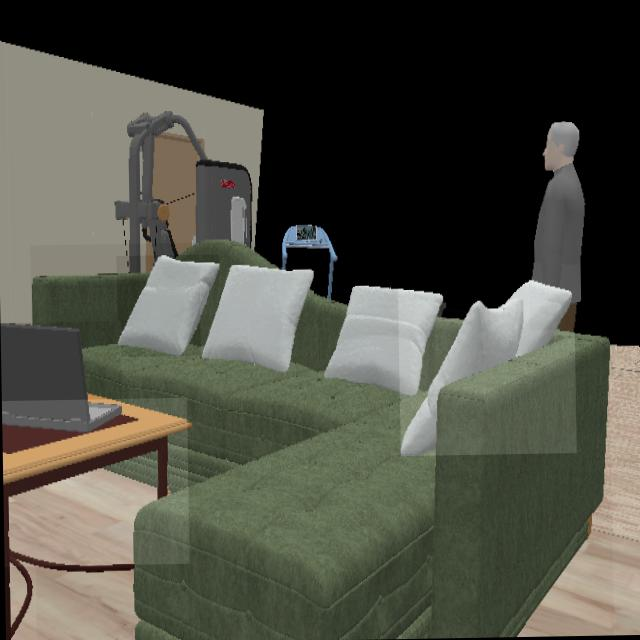laptop: (0, 323, 122, 439)
person: (528, 122, 585, 330)
pillow: (400, 282, 574, 455), (324, 286, 444, 397), (201, 265, 313, 374), (117, 255, 219, 355)
sofa: (30, 242, 608, 640)
table: (2, 399, 187, 566)
